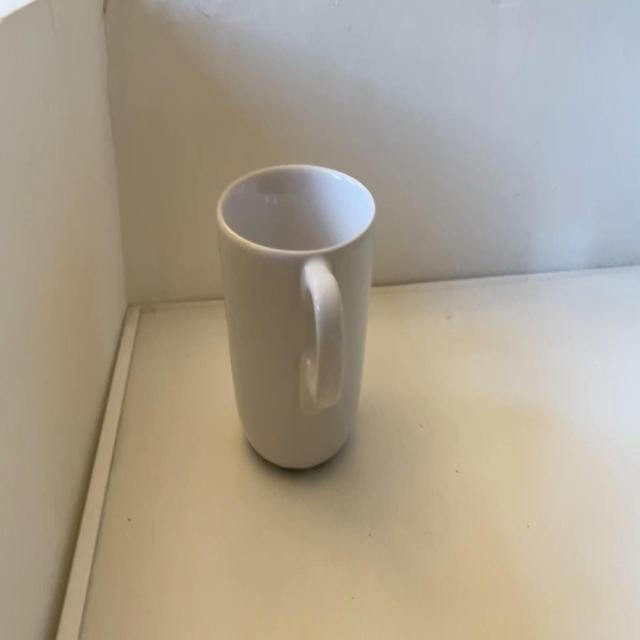cup: (216, 165, 377, 467)
